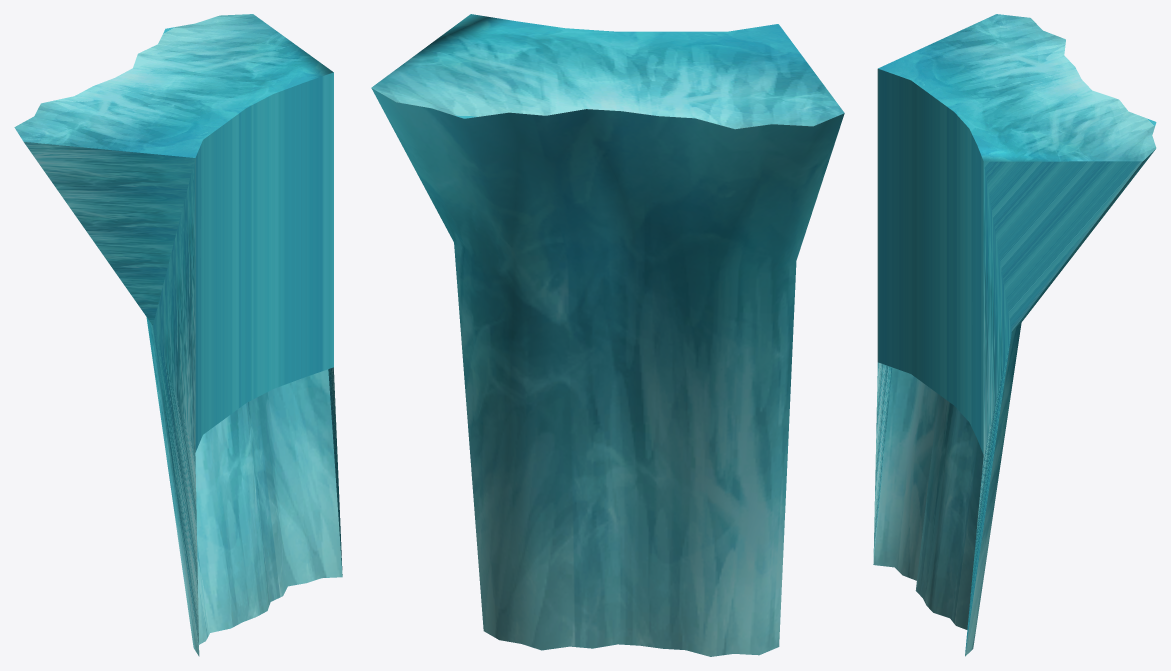
File: ic_arthas_iceshard06.obj
The picture shows the model from 3 angles, left to right: view 1: azimuth 30°, elevation 25°; view 2: azimuth 150°, elevation 25°; view 3: azimuth 270°, elevation 25°; orthographic projection. The views are drawn at different scales.
Visible parts, largest first — view 1: IC_arthas_iceshard06; view 2: IC_arthas_iceshard06; view 3: IC_arthas_iceshard06.
Part boxes in pixels (x1,y1,x2,y2): IC_arthas_iceshard06: (14,14,342,656); IC_arthas_iceshard06: (371,14,844,656); IC_arthas_iceshard06: (873,14,1156,656).
Bounding box in the file's own units: 52.69 × 82.47 × 42.68.
